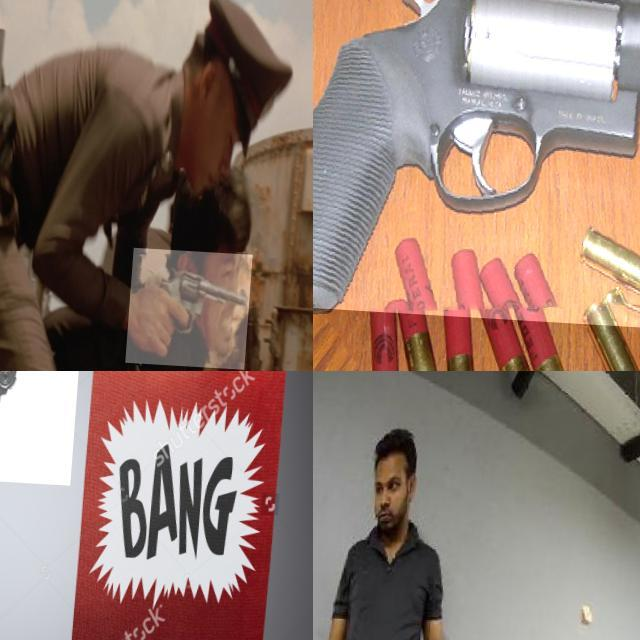gun-knife-thesis - v11 Yolov5 augmented: (313, 0, 640, 328), (132, 243, 258, 364), (0, 371, 128, 485)
